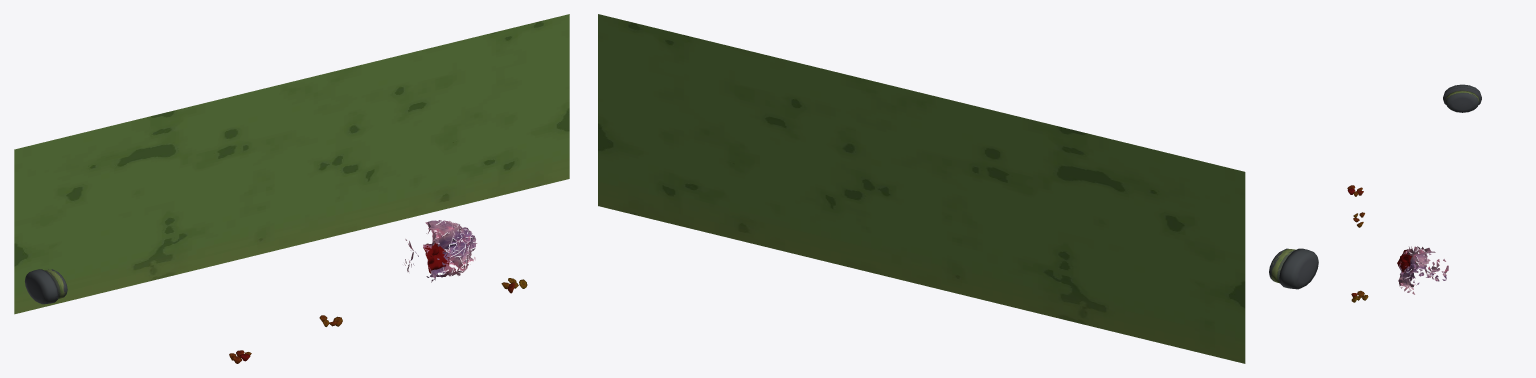
File: reef_details.glb
3 views of the same model, side by side, from view 1: azimuth 30°, elevation 25°; view 2: azimuth 150°, elevation 25°; view 3: azimuth 270°, elevation 25° (orthographic). The views are drawn at different scales.
Parts seen in each view (by area): view 1: FilmBackGlass, CorallineLow, MagCleanerOuter, MushroomsRed, EncrustYellow; view 2: FilmBackGlass, MagCleanerOuter; view 3: CorallineLow, MagCleaner, MushroomsRed, MagCleanerOuter, EncrustYellow.
Part boxes in pixels (left/top/right/bottom): FilmBackGlass: left=14, top=14, right=569, bottom=314; CorallineLow: left=404, top=220, right=477, bottom=282; MagCleanerOuter: left=25, top=269, right=58, bottom=304; MushroomsRed: left=229, top=278, right=527, bottom=363; EncrustYellow: left=423, top=241, right=449, bottom=273; FilmBackGlass: left=598, top=14, right=1245, bottom=363; MagCleanerOuter: left=1279, top=248, right=1318, bottom=289; CorallineLow: left=1398, top=246, right=1448, bottom=294; MagCleaner: left=1445, top=90, right=1479, bottom=112; MushroomsRed: left=1347, top=185, right=1368, bottom=302; MagCleanerOuter: left=1443, top=84, right=1481, bottom=104; EncrustYellow: left=1397, top=249, right=1415, bottom=272.
Size of the model in its own units: 125 by 35.25 by 41.08.
5 materials, 5 textured.
